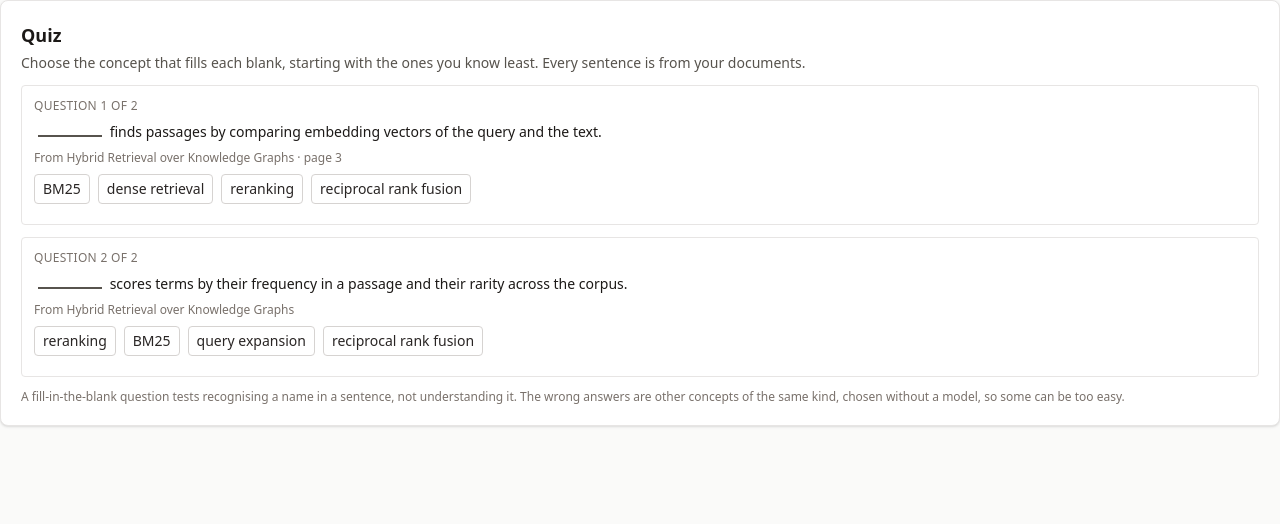
Test: QuizCard: answering › says so, as an alert, when the choice could not be checked, and lets the learner choose again
Click the button "BM25" below "· page 3".
click(62, 189)  # box top-left (34, 174), bottom-right (90, 204)
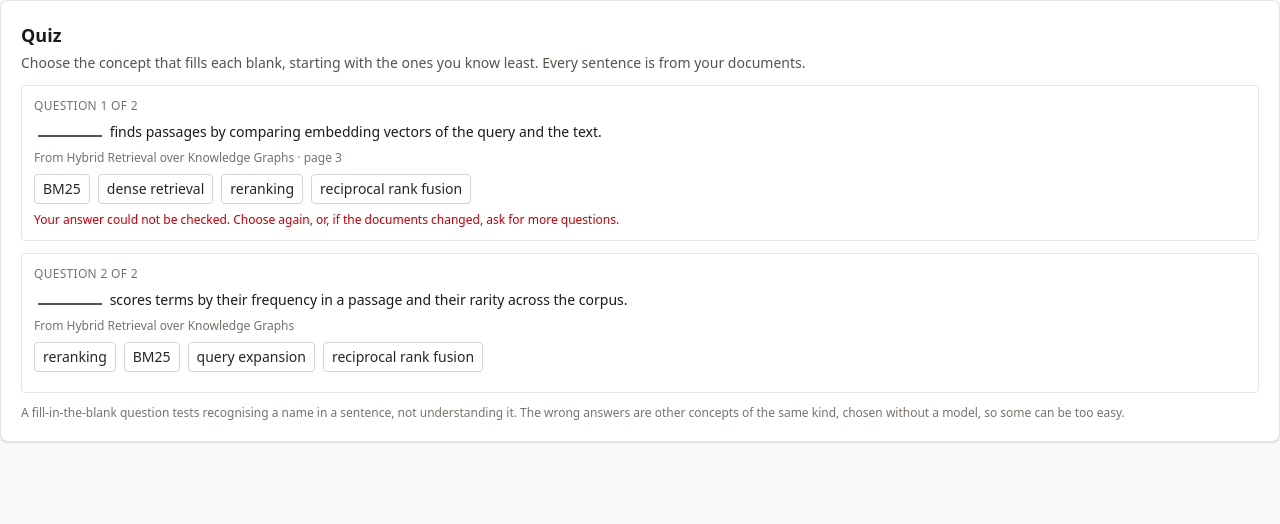
Now the message shows "Your answer could not be checked.", box top-left (34, 211), bottom-right (619, 228)
Click the button "dense retrieval".
click(156, 189)  # box top-left (98, 174), bottom-right (213, 204)
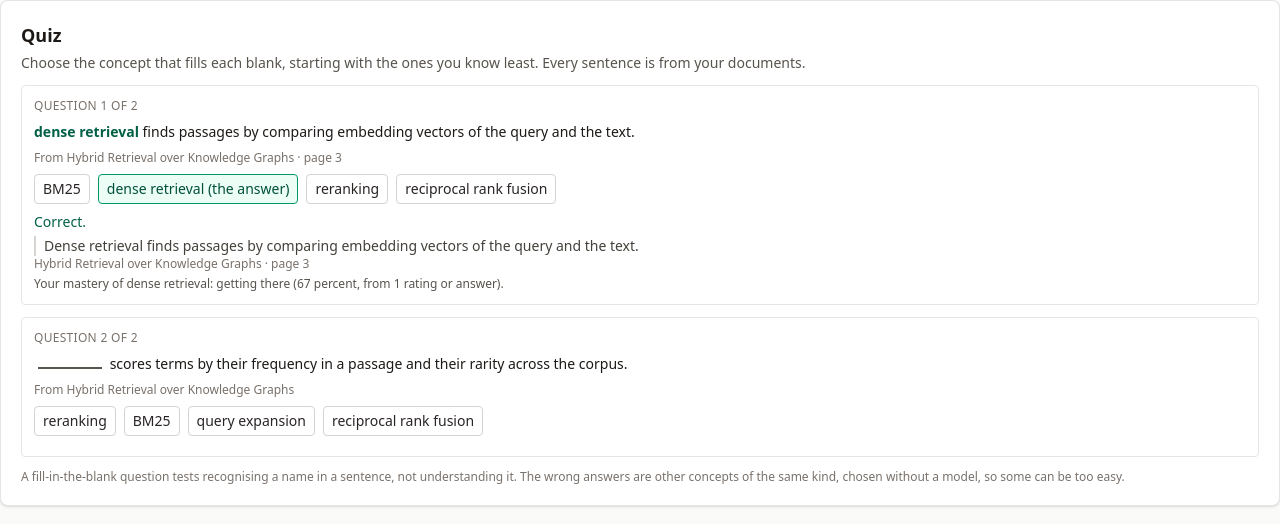
Now the text "Correct." is shown, box top-left (34, 212), bottom-right (86, 231)
